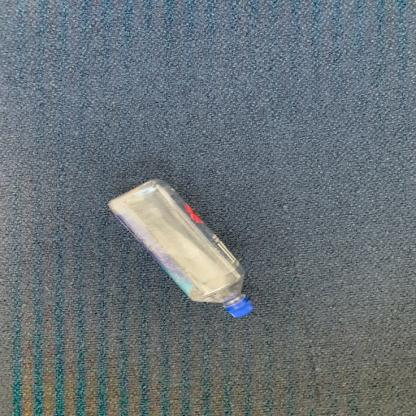trash: (106, 178, 256, 326)
